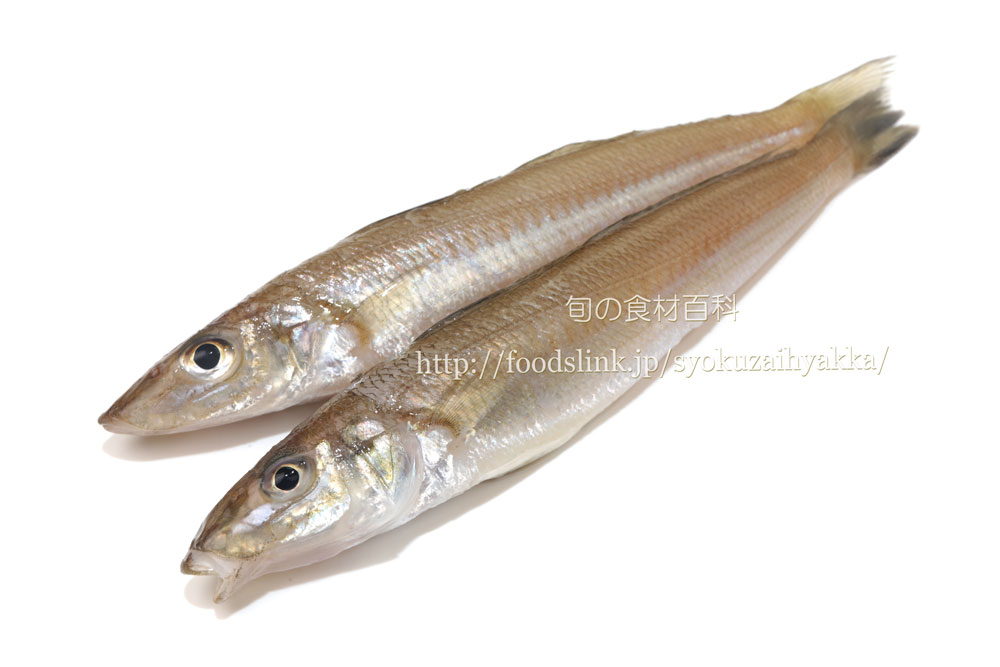kiss: (95, 65, 908, 611)
